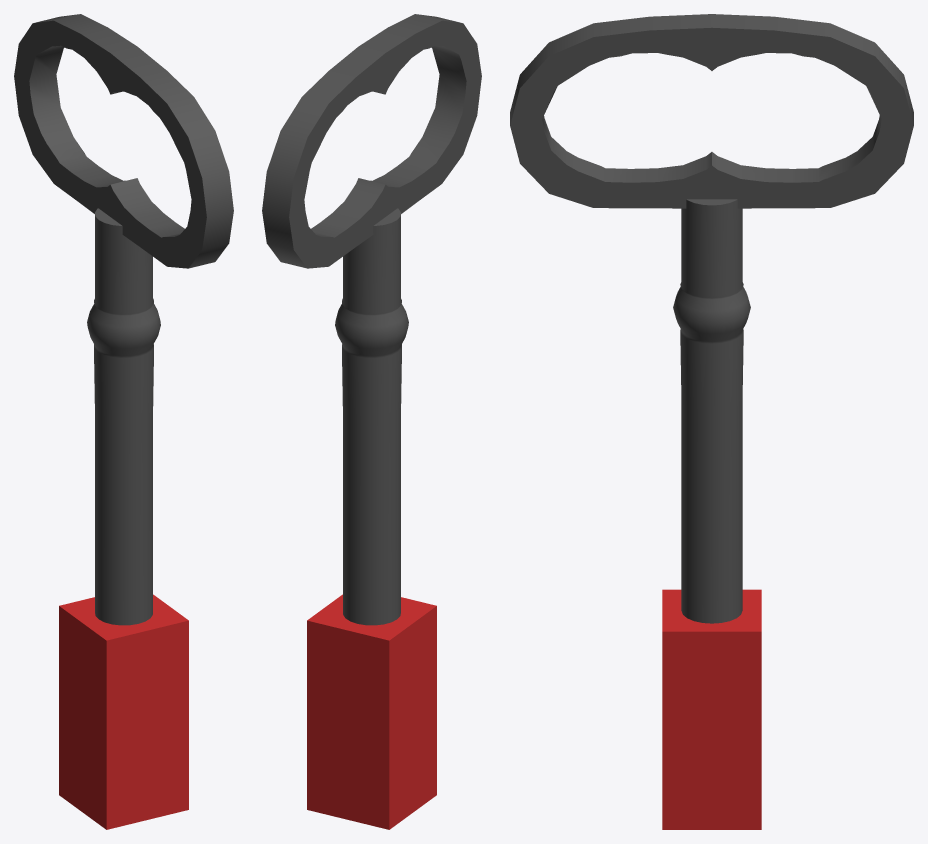
The model's file is squarekey.fbx.
3 renders of one model, left to right at view 1: azimuth 30°, elevation 25°; view 2: azimuth 150°, elevation 25°; view 3: azimuth 270°, elevation 25°, orthographic. The views are drawn at different scales.
Parts seen in each view (by area): view 1: pCylinder37; view 2: pCylinder37; view 3: pCylinder37.
Boxes of the visible parts, x1,y1,x2,y2 form: pCylinder37: (14, 14, 233, 829); pCylinder37: (262, 14, 481, 829); pCylinder37: (510, 14, 913, 829).
Size of the model in its own units: 1.42 by 12.36 by 5.74.
